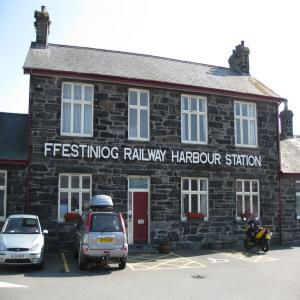Vehicle-registration-plate: (10, 254, 26, 260), (100, 238, 114, 244)
